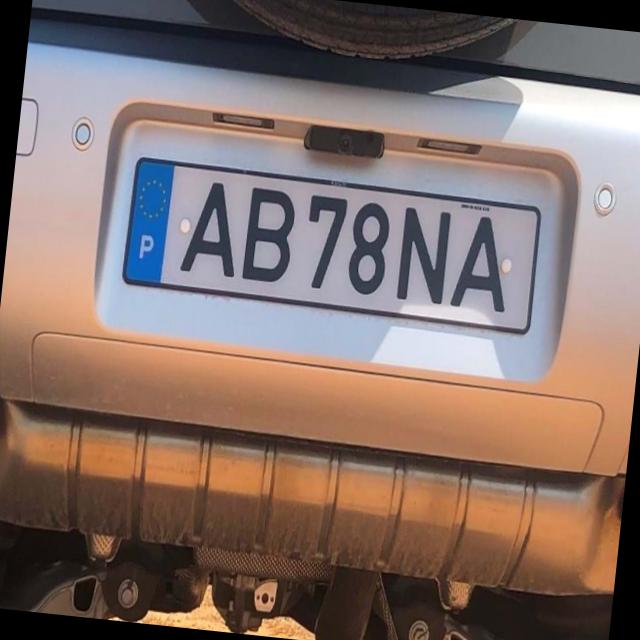portuguese-license-plates: (118, 155, 544, 340)
